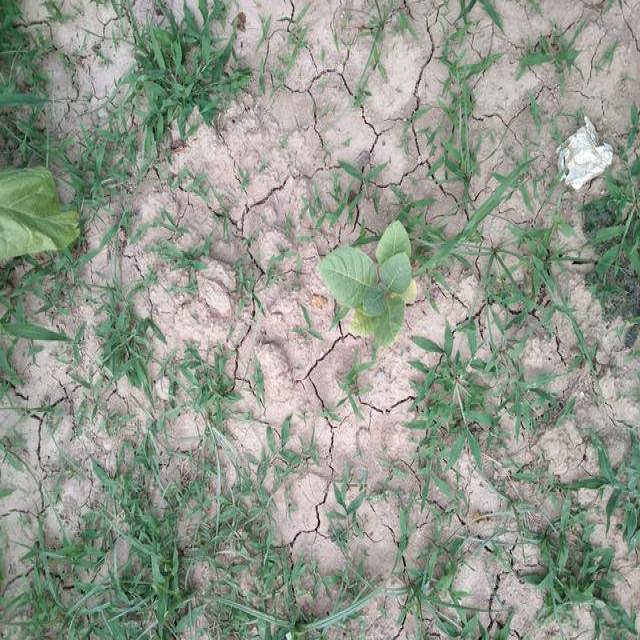crop: (322, 223, 421, 345), (2, 170, 78, 260)
